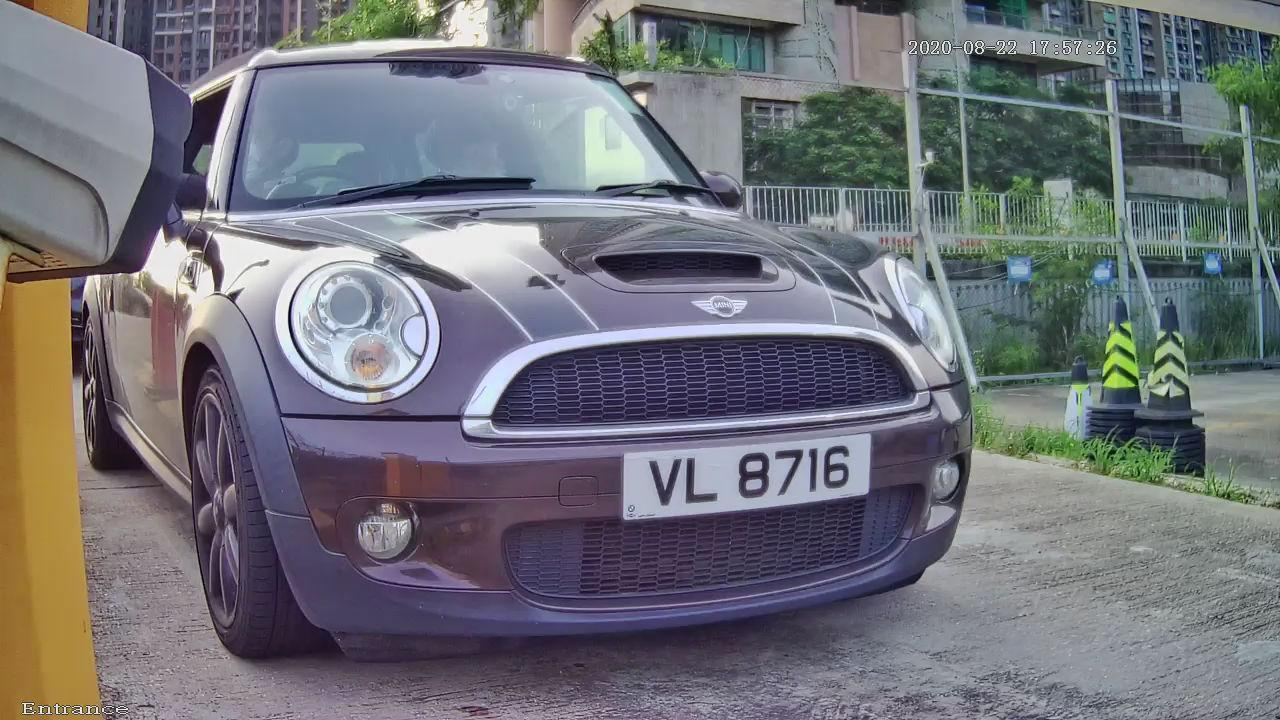Car: (63, 17, 1058, 688)
License Plate: (601, 425, 886, 528)
